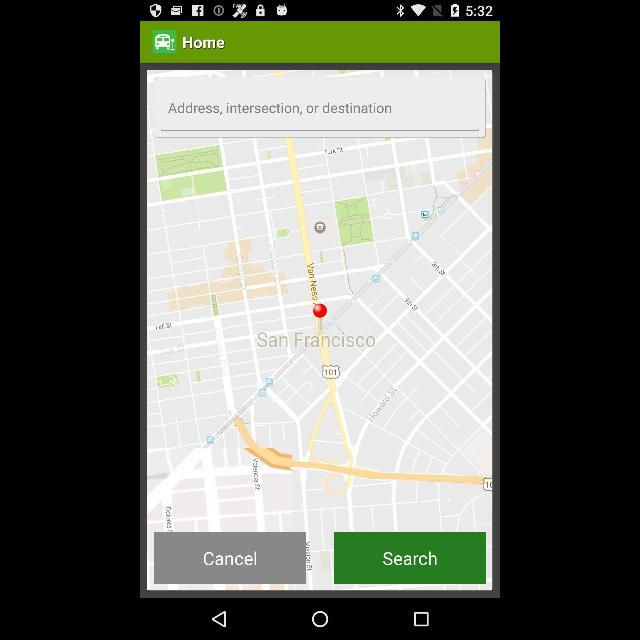icon: (154, 30, 176, 54), (312, 610, 328, 628), (212, 612, 226, 628), (414, 613, 428, 627)
input: (156, 77, 484, 137)
map: (146, 69, 494, 592)
panel: (140, 21, 500, 64), (141, 600, 499, 640)
text: (168, 101, 392, 117), (182, 37, 224, 51)
textbutton: (154, 532, 306, 584), (335, 531, 485, 583)
uppertaskbar: (140, 0, 500, 20)
